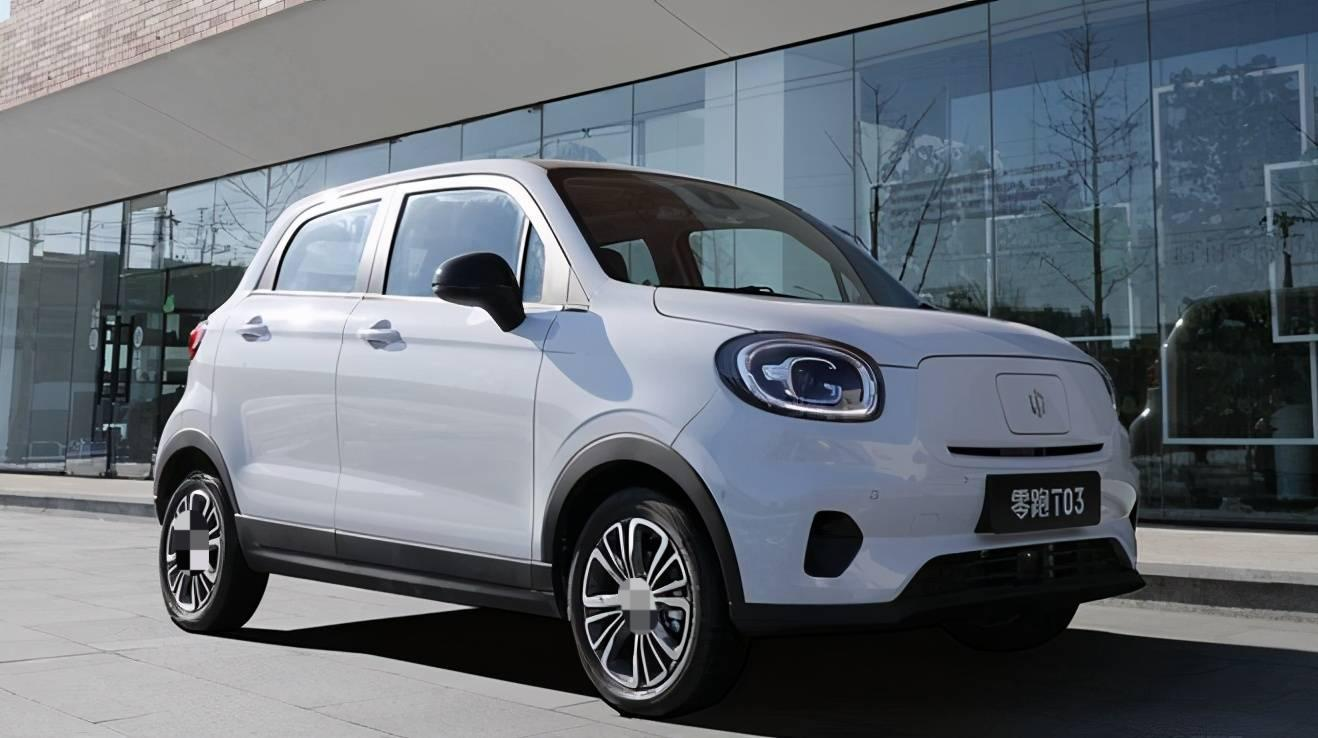LEAPMOTOR: (1028, 387, 1046, 418)
